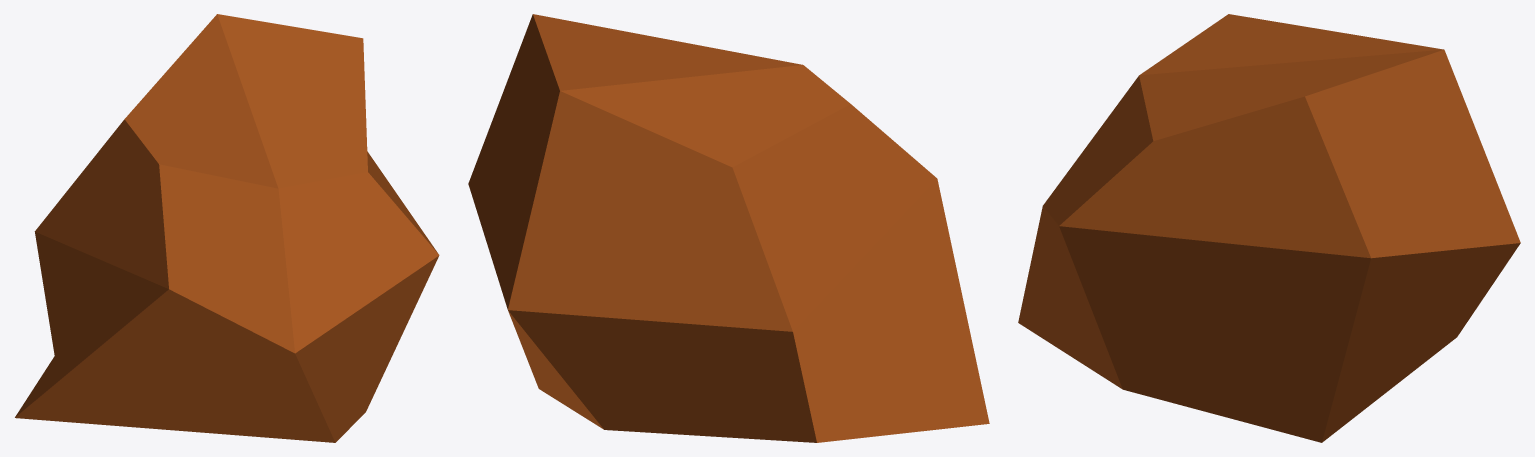
Rendered from Stone04.FBX.
3 views of the same model, side by side, from view 1: azimuth 30°, elevation 25°; view 2: azimuth 150°, elevation 25°; view 3: azimuth 270°, elevation 25° (orthographic). The views are drawn at different scales.
Visible parts, largest first — view 1: Box004; view 2: Box004; view 3: Box004.
Boxes of the visible parts, x1,y1,x2,y2 form: Box004: [15, 14, 439, 442]; Box004: [468, 14, 989, 442]; Box004: [1018, 14, 1520, 442].
Bounding box in the file's own units: 31.96 × 24.06 × 31.02.
